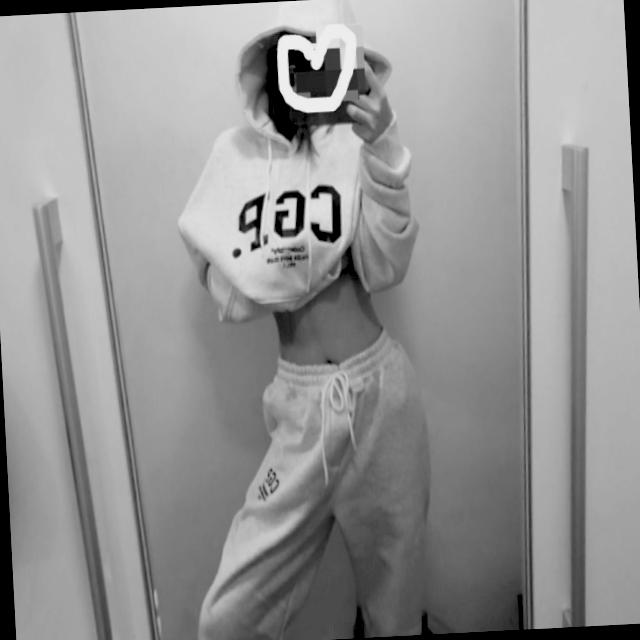hoodies: (163, 0, 424, 350)
trainingpants: (181, 319, 439, 640)
